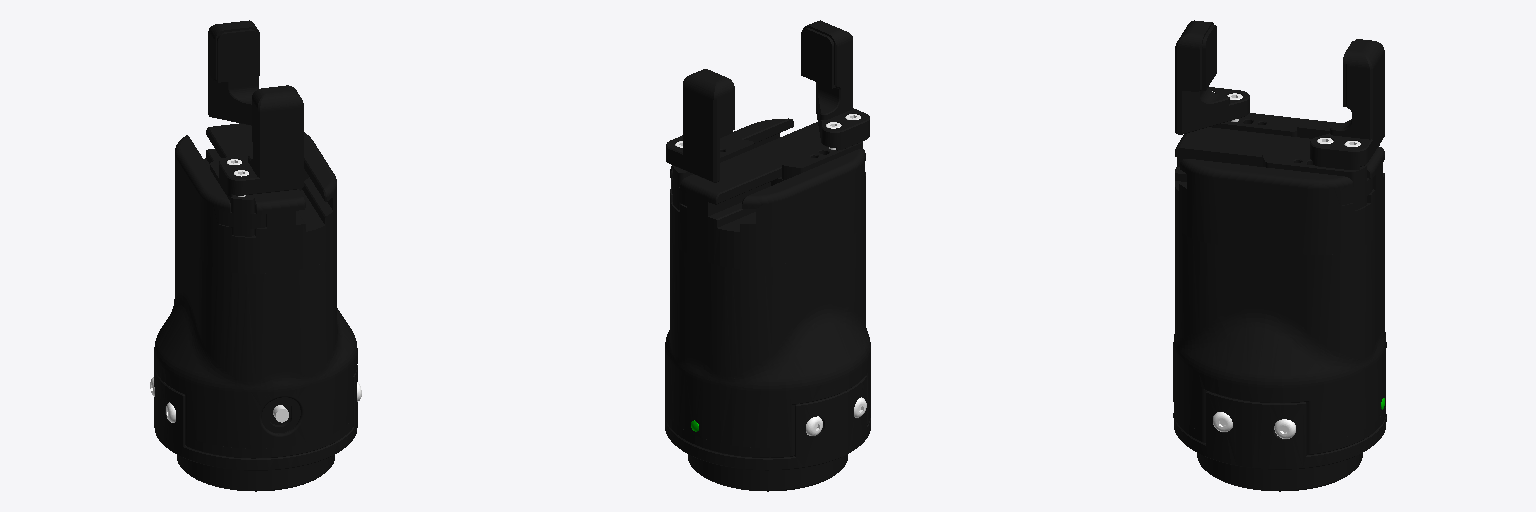
robot.urdf — xMatePro7:
<?xml version="1.0" ?>
<!-- =================================================================================== -->
<!-- |    This document was autogenerated by xacro from xMatePro7.xacro                | -->
<!-- |    EDITING THIS FILE BY HAND IS NOT RECOMMENDED                                 | -->
<!-- =================================================================================== -->
<!-- xmate3 manipulator -->
<!--  Attention!!! inertia in the model is not correct!!! -->
<robot name="xMatePro7">
  <!-- Constants for robot dimensions -->
  <material name="black">
    <color rgba="0.0 0.0 0.0 1.0"/>
  </material>
  <material name="blue">
    <color rgba="0.0 0.0 0.8 1.0"/>
  </material>
  <material name="green">
    <color rgba="0.0 0.8 0.0 1.0"/>
  </material>
  <material name="grey">
    <color rgba="0.2 0.2 0.2 1.0"/>
  </material>
  <material name="orange">
    <color rgba="1.0 0.4235294117647059 0.0392156862745098 1.0"/>
  </material>
  <material name="brown">
    <color rgba="0.8705882352941177 0.8117647058823529 0.7647058823529411 1.0"/>
  </material>
  <material name="red">
    <color rgba="0.8 0.0 0.0 1.0"/>
  </material>
  <material name="white">
    <color rgba="1.0 1.0 1.0 1.0"/>
  </material>
  <material name="Beige">
    <color rgba="1.0 0.784 0.5765 1.0"/>
  </material>
  <!-- Used for fixing robot to Gazebo 'base_link' -->
  <link name="world"/>
  <joint name="fixed" type="fixed">
    <parent link="world"/>
    <child link="xMatePro7_base"/>
  </joint>
  <!--base-->
  <link name="xMatePro7_base">
    <visual>
      <geometry>
        <mesh filename="package://rokae_description/meshes/xMateER7p/visual/xMatePro7_base.stl" scale="0.001 0.001 0.001"/>
      </geometry>
      <origin rpy="0 0 0" xyz="0.0 0.0 0.0"/>
      <material name="white"/>
    </visual>
    <inertial>
      <mass value="5.48267"/>
      <inertia ixx="0.056" ixy="0" ixz="0" iyy="0.066" iyz="0" izz="0.035"/>
      <origin rpy="0 0 0" xyz="-0.0183 0 0.067"/>
    </inertial>
    <collision>
      <geometry>
        <mesh filename="package://rokae_description/meshes/xMateER7p/collision/xMatePro7_base.stl" scale="0.001 0.001 0.001"/>
      </geometry>
      <origin rpy="0 0 0" xyz="0.0 0.0 0.0"/>
    </collision>
  </link>
  <joint name="joint1" type="revolute">
    <parent link="xMatePro7_base"/>
    <child link="xMatePro7_link1"/>
    <limit effort="300" lower="-3.0527" upper="3.0527" velocity="10"/>
    <axis xyz="0 0 1"/>
    <origin rpy="0 0 0" xyz="0 0 0"/>
  </joint>
  <transmission name="tran1">
    <type>transmission_interface/SimpleTransmission</type>
    <joint name="xmate_joint_1">
      <hardwareInterface>EffortJointInterface</hardwareInterface>
    </joint>
    <actuator name="motor1">
      <hardwareInterface>EffortJointInterface</hardwareInterface>
      <mechanicalReduction>1</mechanicalReduction>
    </actuator>
  </transmission>
  <!--link 1-->
  <link name="xMatePro7_link1">
    <visual>
      <geometry>
        <mesh filename="package://rokae_description/meshes/xMateER7p/visual/xMatePro7_link1.stl" scale="0.001 0.001 0.001"/>
      </geometry>
      <origin rpy="0 0 0" xyz="0 0 0"/>
      <material name="white"/>
    </visual>
    <inertial>
      <mass value="5.96204"/>
      <inertia ixx="0.051" ixy="0" ixz="0" iyy="0.049" iyz="-0.007" izz="7.176"/>
      <origin rpy="0 0 0" xyz="0 -0.017 0.320"/>
    </inertial>
    <collision>
      <geometry>
        <mesh filename="package://rokae_description/meshes/xMateER7p/collision/xMatePro7_link1.stl" scale="0.001 0.001 0.001"/>
      </geometry>
      <origin rpy="0 0 0" xyz="0 0 0"/>
    </collision>
  </link>
  <joint name="joint2" type="revolute">
    <parent link="xMatePro7_link1"/>
    <child link="xMatePro7_link2"/>
    <limit effort="300" lower="-2.0933" upper="2.0933" velocity="10"/>
    <axis xyz="0 1 0"/>
    <origin rpy="0 0 0" xyz="0 0 0.404"/>
  </joint>
  <transmission name="tran2">
    <type>transmission_interface/SimpleTransmission</type>
    <joint name="xmate_joint_2">
      <hardwareInterface>EffortJointInterface</hardwareInterface>
    </joint>
    <actuator name="motor2">
      <hardwareInterface>EffortJointInterface</hardwareInterface>
      <mechanicalReduction>1</mechanicalReduction>
    </actuator>
  </transmission>
  <!--link 2-->
  <link name="xMatePro7_link2">
    <visual>
      <geometry>
        <mesh filename="package://rokae_description/meshes/xMateER7p/visual/xMatePro7_link2.stl" scale="0.001 0.001 0.001"/>
      </geometry>
      <origin rpy="0 0 0" xyz="0 0 0.0"/>
      <material name="white"/>
    </visual>
    <inertial>
      <mass value="5.40302"/>
      <inertia ixx="0.070" ixy="0" ixz="0" iyy="7.230" iyz="-0.014" izz="0.011"/>
      <origin rpy="0 0 0" xyz="0 0.032 0.093"/>
    </inertial>
    <collision>
      <geometry>
        <mesh filename="package://rokae_description/meshes/xMateER7p/collision/xMatePro7_link2.stl" scale="0.001 0.001 0.001"/>
      </geometry>
      <origin rpy="0 0 0" xyz="0 0 0.0"/>
    </collision>
  </link>
  <joint name="joint3" type="revolute">
    <parent link="xMatePro7_link2"/>
    <child link="xMatePro7_link3"/>
    <limit effort="300" lower="-3.0527" upper="3.0527" velocity="10"/>
    <axis xyz="0 0 1"/>
    <origin rpy="0 0 0" xyz="0 0 0.23743878"/>
  </joint>
  <transmission name="tran3">
    <type>transmission_interface/SimpleTransmission</type>
    <joint name="xmate_joint_3">
      <hardwareInterface>EffortJointInterface</hardwareInterface>
    </joint>
    <actuator name="motor3">
      <hardwareInterface>EffortJointInterface</hardwareInterface>
      <mechanicalReduction>1</mechanicalReduction>
    </actuator>
  </transmission>
  <!--${nameofManipulator}_link 3-->
  <link name="xMatePro7_link3">
    <visual>
      <geometry>
        <mesh filename="package://rokae_description/meshes/xMateER7p/visual/xMatePro7_link3.stl" scale="0.001 0.001 0.001"/>
      </geometry>
      <origin rpy="0 0 0" xyz="0 0 0.15549959"/>
      <material name="white"/>
    </visual>
    <inertial>
      <mass value="3.95735"/>
      <inertia ixx="0.022" ixy="0" ixz="0" iyy="0.021" iyz="-0.002" izz="1.12"/>
      <origin rpy="0 0 0" xyz="0 -0.013 -0.067"/>
    </inertial>
    <collision>
      <geometry>
        <mesh filename="package://rokae_description/meshes/xMateER7p/collision/xMatePro7_link3.stl" scale="0.001 0.001 0.001"/>
      </geometry>
      <origin rpy="0 0 0" xyz="0 0 0.15549959"/>
    </collision>
  </link>
  <joint name="joint4" type="revolute">
    <parent link="xMatePro7_link3"/>
    <child link="xMatePro7_link4"/>
    <limit effort="300" lower="-2.0933" upper="2.0933" velocity="10"/>
    <!--     lower="-2.79" upper="2.79" -->
    <axis xyz="0 1 0"/>
    <!--     <origin rpy="0 0 0" xyz="0.585 0.0 0.035"/> -->
    <origin rpy="0 0 0" xyz="0 0 0.15549959"/>
  </joint>
  <transmission name="tran4">
    <type>transmission_interface/SimpleTransmission</type>
    <joint name="xmate_joint_4">
      <hardwareInterface>EffortJointInterface</hardwareInterface>
    </joint>
    <actuator name="motor4">
      <hardwareInterface>EffortJointInterface</hardwareInterface>
      <mechanicalReduction>1</mechanicalReduction>
    </actuator>
  </transmission>
  <!--link 4-->
  <link name="xMatePro7_link4">
    <visual>
      <geometry>
        <mesh filename="package://rokae_description/meshes/xMateER7p/visual/xMatePro7_link4.stl" scale=".001 0.001 0.001"/>
      </geometry>
      <origin rpy="0 0 0" xyz="0.0 0.0 0.0"/>
      <material name="white"/>
    </visual>
    <inertial>
      <mass value="2.91217"/>
      <inertia ixx="0.024" ixy="0" ixz="0" iyy="1.138" iyz="-0.004" izz="0.005"/>
      <origin rpy="0 0 0" xyz="0 0.026 0.068"/>
    </inertial>
    <collision>
      <geometry>
        <mesh filename="package://rokae_description/meshes/xMateER7p/collision/xMatePro7_link4.stl" scale="0.001 0.001 0.001"/>
      </geometry>
      <origin rpy="0 0 0" xyz="0.0 0.0 0.0"/>
    </collision>
  </link>
  <joint name="joint5" type="revolute">
    <parent link="xMatePro7_link4"/>
    <child link="xMatePro7_link5"/>
    <limit effort="300" lower="-3.0527" upper="3.0527" velocity="10"/>
    <axis xyz="0 0 1"/>
    <origin rpy="0 0 0" xyz="0 0 0.22044633"/>
  </joint>
  <transmission name="tran5">
    <type>transmission_interface/SimpleTransmission</type>
    <joint name="xmate_joint_5">
      <hardwareInterface>EffortJointInterface</hardwareInterface>
    </joint>
    <actuator name="motor5">
      <hardwareInterface>EffortJointInterface</hardwareInterface>
      <mechanicalReduction>1</mechanicalReduction>
    </actuator>
  </transmission>
  <!--link 5-->
  <link name="xMatePro7_link5">
    <visual>
      <geometry>
        <mesh filename="package://rokae_description/meshes/xMateER7p/visual/xMatePro7_link5.stl" scale="0.001 0.001 0.001"/>
      </geometry>
      <origin rpy="0 0 0" xyz="0 0 0.14512568"/>
      <material name="white"/>
    </visual>
    <inertial>
      <mass value="2.47056"/>
      <inertia ixx="0.019" ixy="0" ixz="0" iyy="0.018" iyz="-0.002" izz="0.339"/>
      <origin rpy="0 0 0" xyz="0 -0.014 -0.079"/>
    </inertial>
    <collision>
      <geometry>
        <mesh filename="package://rokae_description/meshes/xMateER7p/collision/xMatePro7_link5.stl" scale="0.001 0.001 0.001"/>
      </geometry>
      <origin rpy="0 0 0" xyz="0 0 0.14512568"/>
    </collision>
  </link>
  <joint name="joint6" type="revolute">
    <parent link="xMatePro7_link5"/>
    <child link="xMatePro7_link6"/>
    <limit effort="300" lower="-2.0933" upper="2.0933" velocity="10"/>
    <axis xyz="0 1 0"/>
    <origin rpy="0.0 0.0 0" xyz="0 0 0.14512568"/>
  </joint>
  <transmission name="tran6">
    <type>transmission_interface/SimpleTransmission</type>
    <joint name="xmate_joint_6">
      <hardwareInterface>EffortJointInterface</hardwareInterface>
    </joint>
    <actuator name="motor6">
      <hardwareInterface>EffortJointInterface</hardwareInterface>
      <mechanicalReduction>1</mechanicalReduction>
    </actuator>
  </transmission>
  <!--link 6-->
  <link name="xMatePro7_link6">
    <visual>
      <geometry>
        <mesh filename="package://rokae_description/meshes/xMateER7p/visual/xMatePro7_link6.stl" scale="0.001 0.001 0.001"/>
      </geometry>
      <origin rpy="0 0 0" xyz="0.0 0.0 0.0"/>
      <material name="white"/>
    </visual>
    <inertial>
      <mass value="2.16053"/>
      <inertia ixx="0.016" ixy="0" ixz="0" iyy="0.351" iyz="-0.003" izz="0.003"/>
      <origin rpy="0 0 0" xyz="0 0.020 0.085"/>
    </inertial>
    <collision>
      <geometry>
        <mesh filename="package://rokae_description/meshes/xMateER7p/collision/xMatePro7_link6.stl" scale="0.001 0.001 0.001"/>
      </geometry>
      <origin rpy="0 0 0" xyz="0.0 0.0 0.0"/>
    </collision>
  </link>
  <joint name="joint7" type="revolute">
    <parent link="xMatePro7_link6"/>
    <child link="xMatePro7_link7"/>
    <limit effort="300" lower="-6.283" upper="6.283" velocity="10"/>
    <axis xyz="0 0 1"/>
    <origin rpy="0.0 0.0 0.0" xyz="0 0 0.25090877"/>
  </joint>
  <transmission name="tran7">
    <type>transmission_interface/SimpleTransmission</type>
    <joint name="xmate_joint_7">
      <hardwareInterface>EffortJointInterface</hardwareInterface>
    </joint>
    <actuator name="motor7">
      <hardwareInterface>EffortJointInterface</hardwareInterface>
      <mechanicalReduction>1</mechanicalReduction>
    </actuator>
  </transmission>
  <!--link 7-->
  <link name="xMatePro7_link7">
    <visual>
      <geometry>
        <mesh filename="package://rokae_description/meshes/xMateER7p/visual/xMatePro7_link7.stl" scale="0.001 0.001 0.001"/>
      </geometry>
      <origin rpy="0 0 0" xyz="0 0 0"/>
      <material name="white"/>
    </visual>
    <inertial>
      <mass value="1.26834"/>
      <inertia ixx="0.002" ixy="-0.000000" ixz="-0.000000" iyy="0.001" iyz="-0.000000" izz="0.337"/>
      <origin rpy="0 0 0" xyz="0 0.012 -0.052"/>
    </inertial>
    <collision>
      <geometry>
        <mesh filename="package://rokae_description/meshes/xMateER7p/collision/xMatePro7_link7.stl" scale="0.001 0.001 0.001"/>
      </geometry>
      <origin rpy="0 0 0" xyz="0 0 0"/>
    </collision>
  </link>
  <link name="dh_gripper_link">
    <inertial>
      <mass value="5.5333"/>
      <inertia ixx="0.46974" ixy="-1.5672E-07" ixz="-0.0002125" iyy="0.72479" iyz="-0.0018639" izz="0.25531"/>
    </inertial>
    <visual>
      <geometry>
        <mesh filename="package://rokae_description/meshes/xMateER7p/collision/dh_gripper_300.dae"/>
      </geometry>
    </visual>
    <collision>
      <geometry>
        <mesh filename="package://rokae_description/meshes/xMateER7p/collision/dh_gripper_300.dae"/>
      </geometry>
    </collision>
  </link>
  <joint name="dh_gripper_joint" type="fixed">
    <origin rpy="1.5708 0 1.309" xyz="0 0 0"/>
    <parent link="xMatePro7_link7"/>
    <child link="dh_gripper_link"/>
  </joint>
</robot>

--- What the picture shows (computed from the rendered views, not written in the file) ---
The picture shows the robot from 3 angles, left to right: view 1: azimuth 30°, elevation 25°; view 2: azimuth 150°, elevation 25°; view 3: azimuth 270°, elevation 25°; orthographic projection.
Robot: xMatePro7 — 10 links, 9 joints (7 revolute, 2 fixed); root link world; default pose: all joints at 0.
Links seen in each view (by area): view 1: dh_gripper_link; view 2: dh_gripper_link; view 3: dh_gripper_link.
Boxes of the visible links, bbox=[...] form: dh_gripper_link: bbox=[150, 20, 361, 491]; dh_gripper_link: bbox=[665, 20, 870, 491]; dh_gripper_link: bbox=[1173, 20, 1386, 491].
Bounding box of the posed robot: 0.0937 × 0.09 × 0.196 m (x, y, z).
1 mesh visuals loaded from 9 distinct referenced files (1 Collada DAE); not drawn: 8 (reference not matched to a file when rendering).